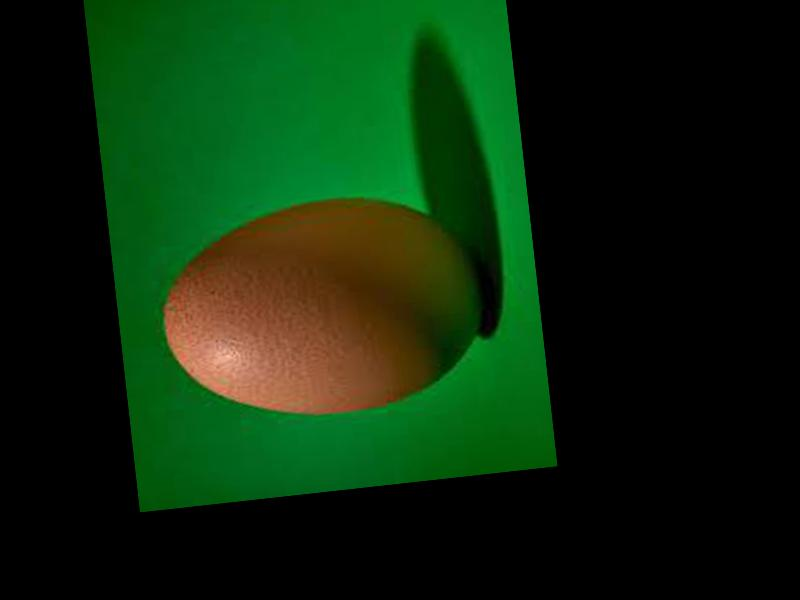Eggs: (154, 184, 494, 432)
